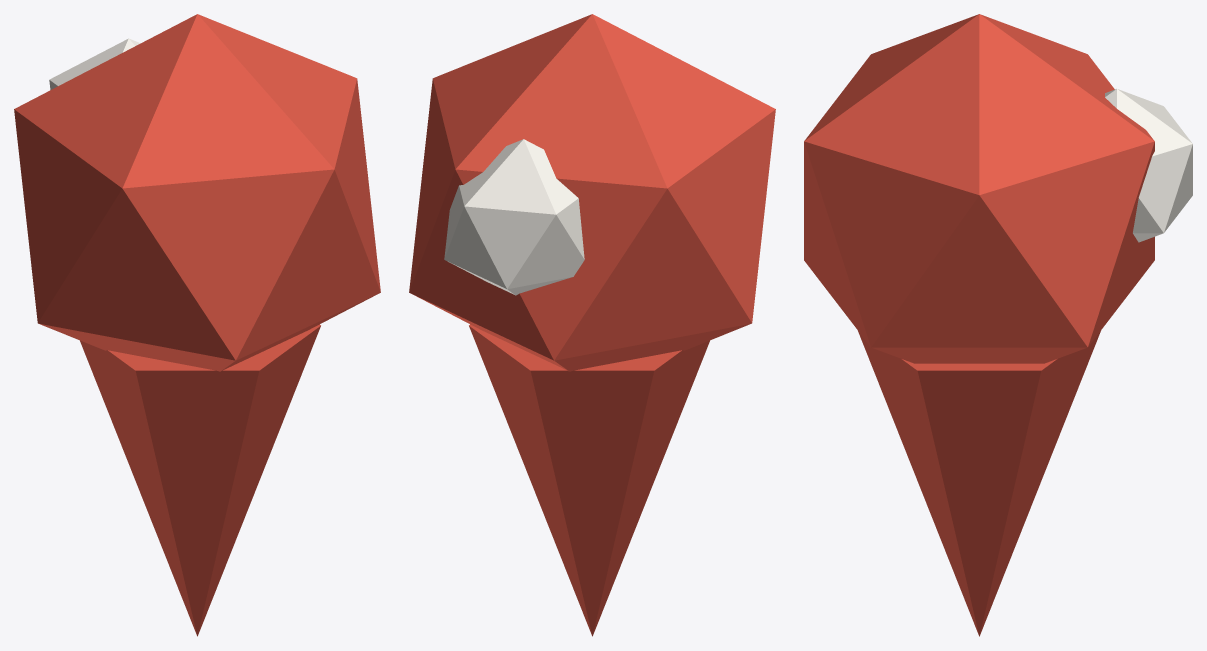
The model's file is pin.glb.
3 views of the same model, side by side, from view 1: azimuth 30°, elevation 25°; view 2: azimuth 150°, elevation 25°; view 3: azimuth 270°, elevation 25° (orthographic).
Parts seen in each view (by area): view 1: pin; view 2: pin; view 3: pin.
Part boxes in pixels (x1,y1,x2,y2): pin: [14, 14, 380, 636]; pin: [409, 14, 775, 636]; pin: [804, 14, 1192, 636].
Size of the model in its own units: 0.5367 by 1 by 0.5658.
Materials: 1 (1 with a texture image).
